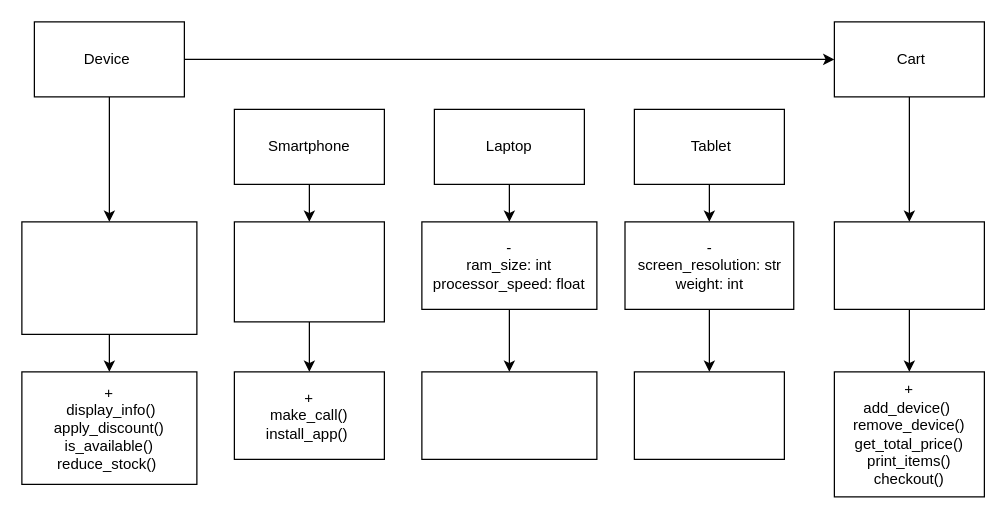
This 1006x519 diagram has some shape labels left out. Each missing label, with the centre of its shape:
+ browse_internet() use_touchscreen(): the point at 708,415
+ run_program() use_keyboard(): the point at 509,415
- items: list total_price: float: the point at 908,265
- name : str price: float stock: int warranty_period: int: the point at 109,277
- screen_size: float battery_life: int: the point at 308,271
